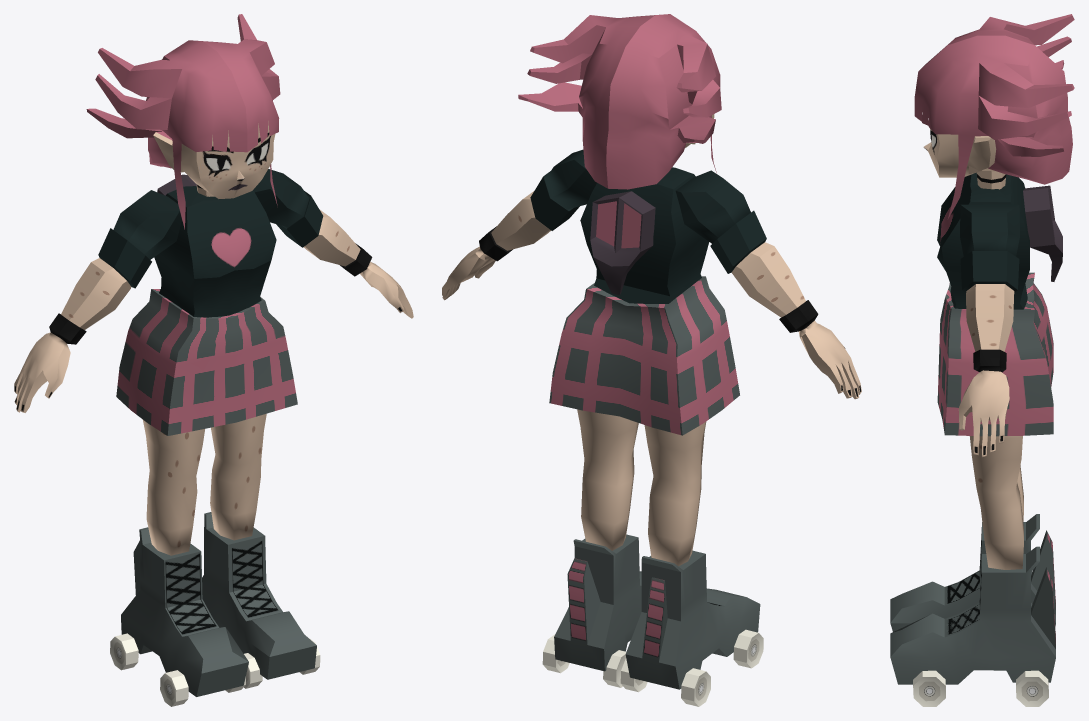
Rendered from texturedRiggedAxia.fbx.
3 renders of one model, left to right at view 1: azimuth 30°, elevation 25°; view 2: azimuth 150°, elevation 25°; view 3: azimuth 270°, elevation 25°, orthographic. The views are drawn at different scales.
Parts seen in each view (by area): view 1: Cube.006, 1_shoes, Cube.004, SubMesh_0_Mesh_0.001, 3_legs, Cube.005, 2_wheels; view 2: Cube.006, Cube.004, 1_shoes, SubMesh_0_Mesh_0.001, 3_legs, Cube.005, Cube.001, 2_wheels; view 3: Cube.006, 1_shoes, SubMesh_0_Mesh_0.001, Cube.004, 3_legs, Cube.005, Cube.001, 2_wheels, Cylinder.
Part boxes in pixels (bbox=[...]): Cube.006: bbox=[86, 14, 280, 229]; 1_shoes: bbox=[121, 512, 316, 696]; Cube.004: bbox=[116, 289, 297, 435]; SubMesh_0_Mesh_0.001: bbox=[14, 169, 413, 412]; 3_legs: bbox=[142, 413, 266, 555]; Cube.005: bbox=[154, 186, 276, 317]; 2_wheels: bbox=[110, 633, 320, 706]; Cube.006: bbox=[518, 14, 721, 189]; Cube.004: bbox=[549, 276, 739, 435]; 1_shoes: bbox=[554, 534, 760, 689]; SubMesh_0_Mesh_0.001: bbox=[442, 149, 861, 399]; 3_legs: bbox=[577, 409, 706, 566]; Cube.005: bbox=[580, 167, 708, 303]; Cube.001: bbox=[590, 191, 655, 295]; 2_wheels: bbox=[542, 629, 763, 706]; Cube.006: bbox=[914, 14, 1074, 219]; 1_shoes: bbox=[890, 514, 1055, 684]; SubMesh_0_Mesh_0.001: bbox=[958, 204, 1019, 457]; Cube.004: bbox=[937, 272, 1053, 436]; 3_legs: bbox=[969, 436, 1023, 569]; Cube.005: bbox=[937, 172, 1029, 309]; Cube.001: bbox=[1023, 185, 1062, 281]; 2_wheels: bbox=[913, 670, 1048, 706]; Cylinder: bbox=[976, 171, 1006, 189].
Bounding box in the file's own units: 274 × 411 × 108.
Materials: 1 (1 with a texture image).
